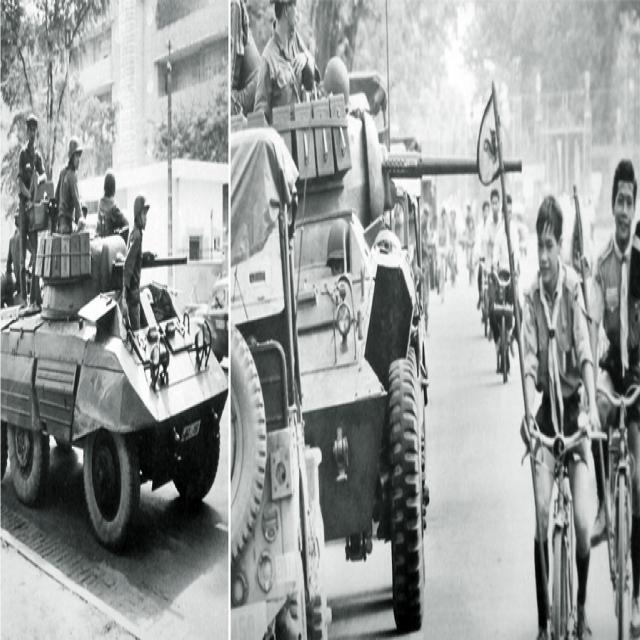tank: (228, 0, 522, 636), (0, 201, 229, 563)
